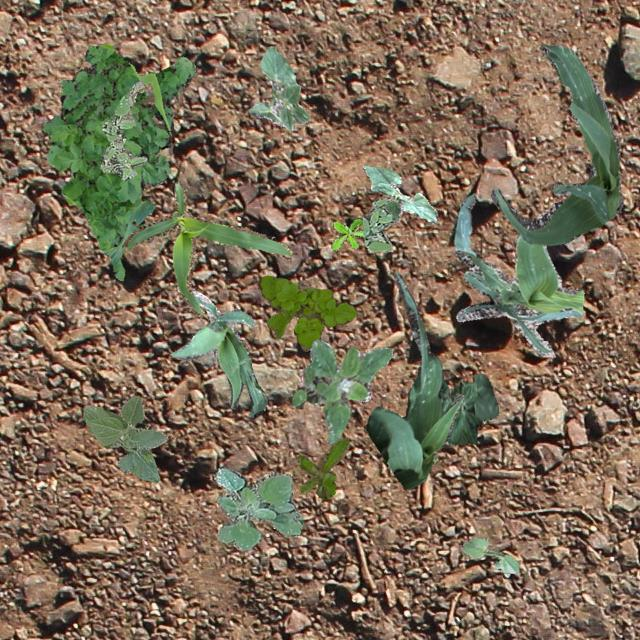crop: (489, 42, 622, 244), (122, 180, 292, 318), (363, 272, 462, 488), (454, 192, 584, 356), (168, 290, 266, 418), (82, 394, 166, 482), (248, 46, 308, 130), (362, 165, 436, 223), (438, 372, 498, 443), (460, 536, 518, 572)
weed: (40, 43, 194, 280), (290, 338, 392, 444), (256, 274, 356, 350), (212, 466, 302, 550), (100, 80, 146, 180), (296, 436, 348, 498), (362, 196, 394, 252), (330, 218, 362, 250), (432, 456, 436, 462)
